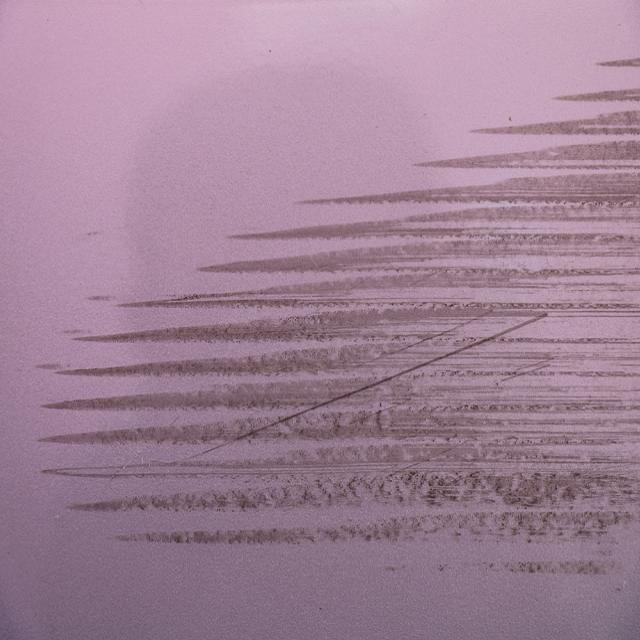scratch: (21, 27, 640, 590)
